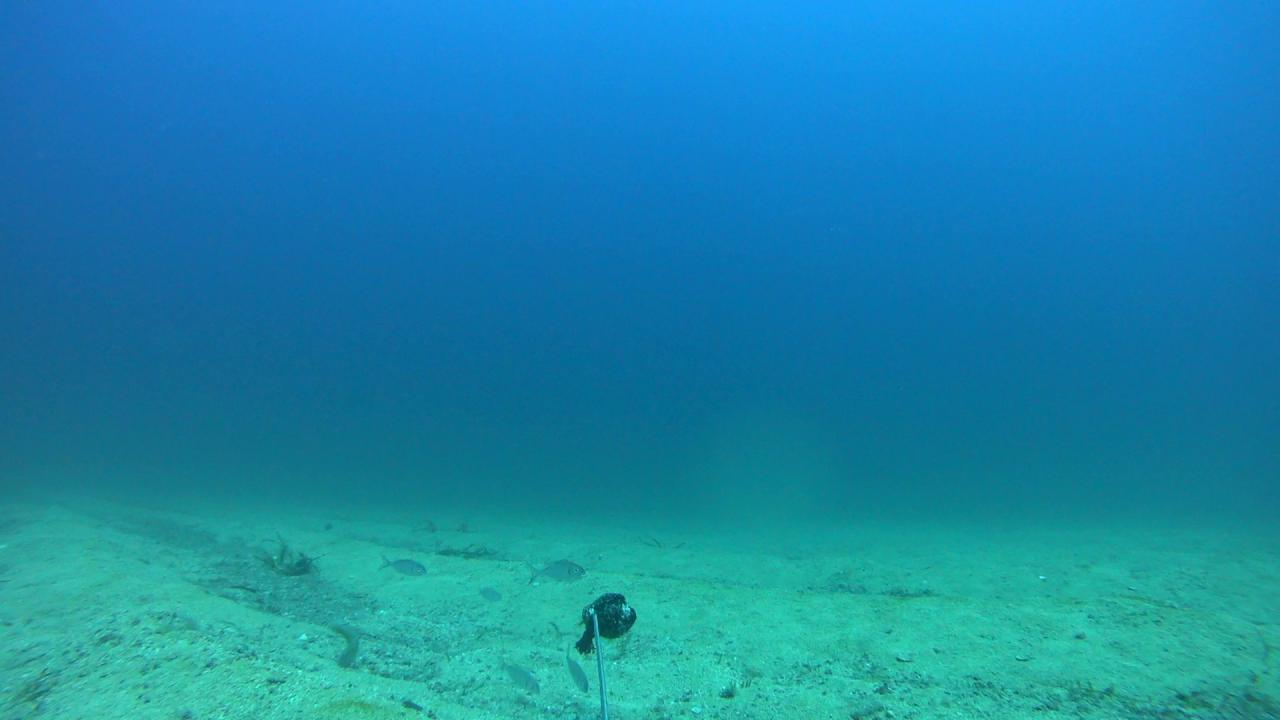pagellus: (524, 559, 586, 586), (498, 654, 538, 693), (564, 641, 589, 693), (378, 553, 428, 577), (478, 584, 503, 601)
